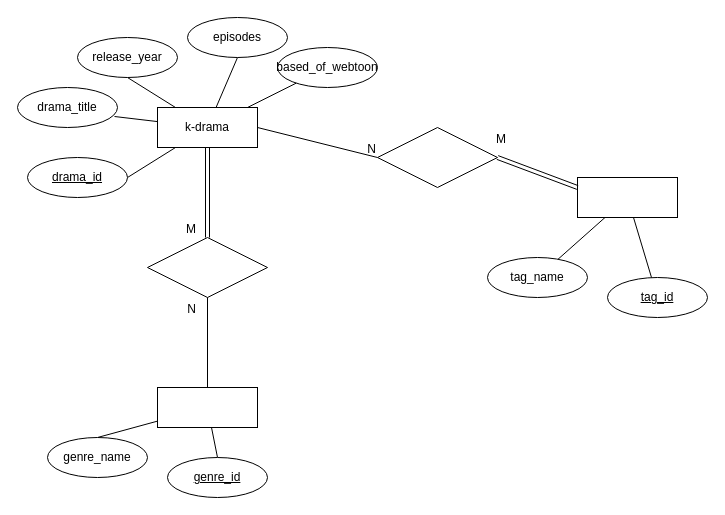
Image size: 725x515. Some labels were removed from this diagram. Here are the shapes that lost their labels. From the top down, the centre of each, then its label:
At (x=437, y=157): "has".
At (x=627, y=197): "tag".
At (x=207, y=267): "contains".
At (x=207, y=407): "genre".
